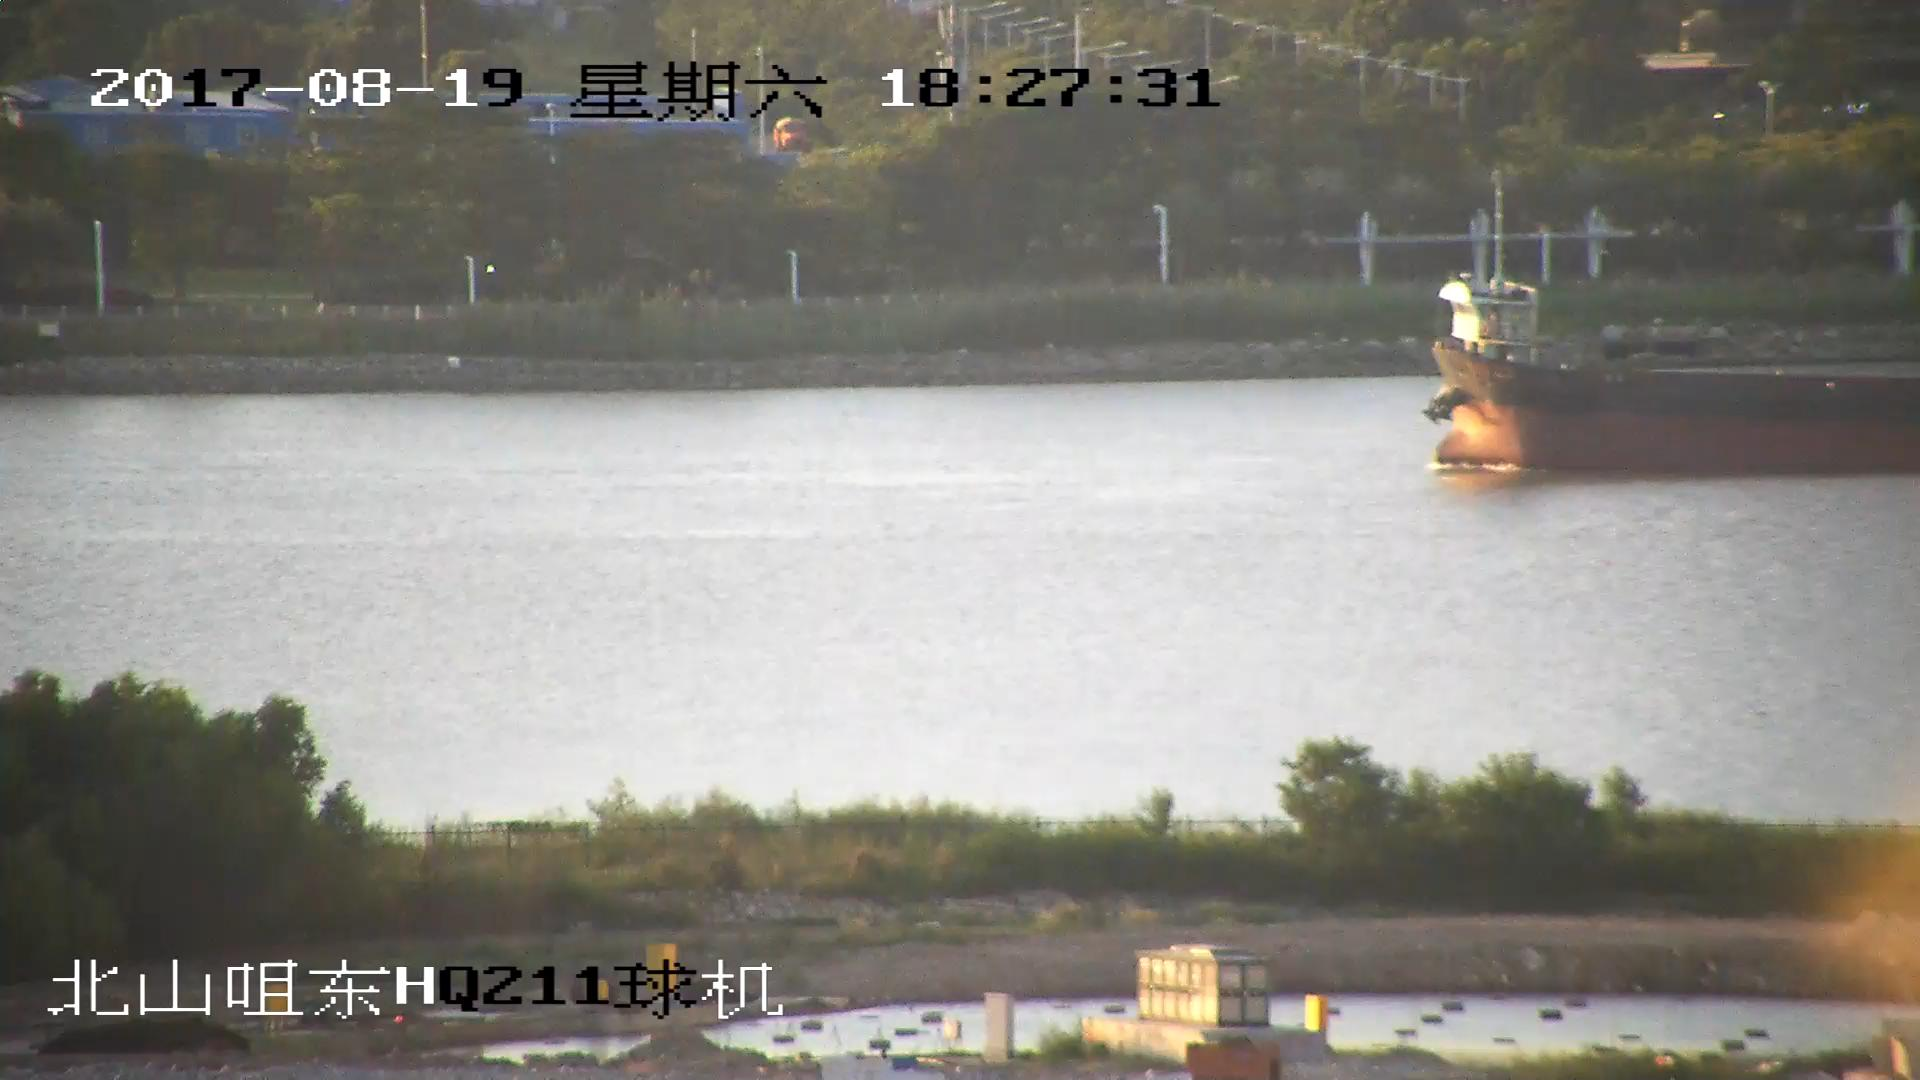general cargo ship: (1429, 277, 1920, 475)
